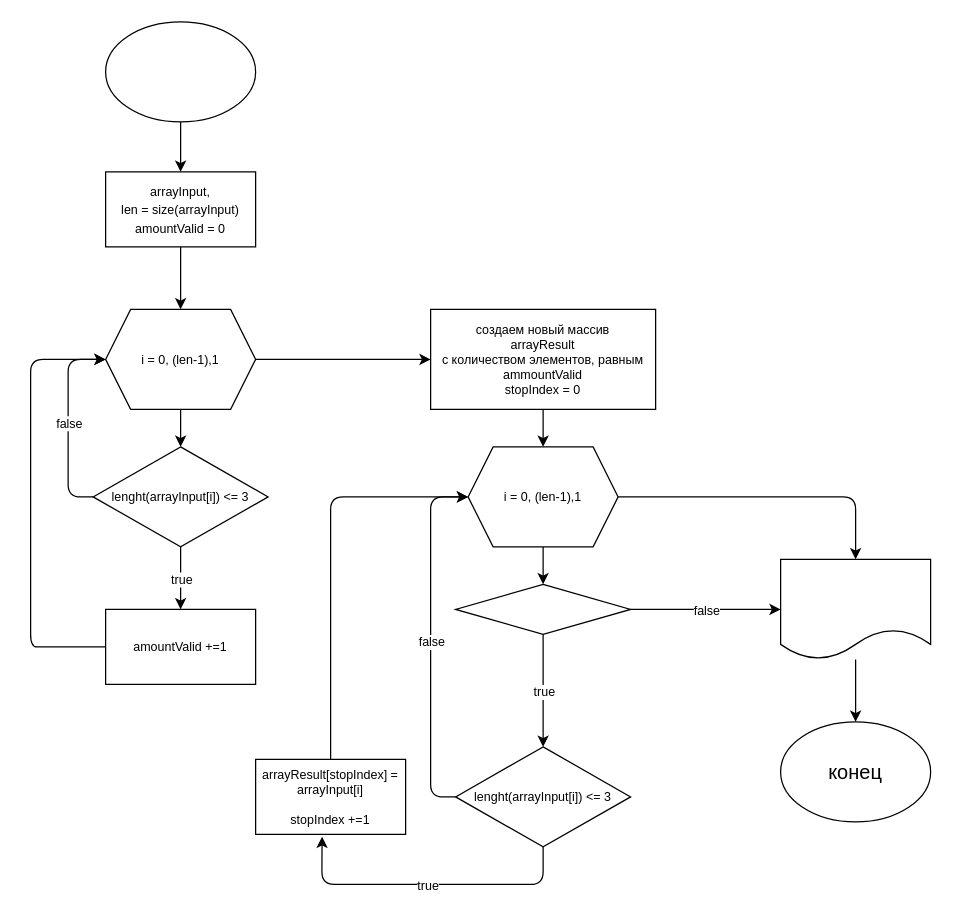
This 953x916 diagram has some shape labels left out. The centre of each missing label's shape, as x and y in pixels:
arrayResult: [855,608]
stopIndex < amountValid: [542,608]
начало: [180,71]
